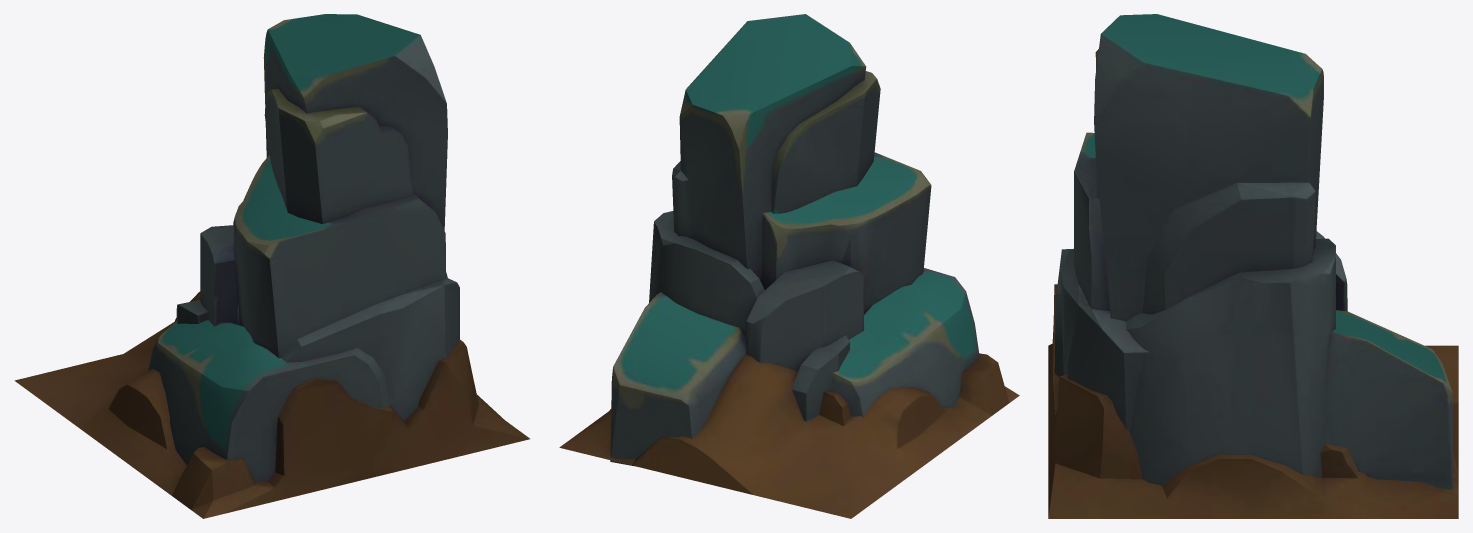
Rendered from OBJ_Mountain_02.obj.
The picture shows the model from 3 angles, left to right: view 1: azimuth 30°, elevation 25°; view 2: azimuth 150°, elevation 25°; view 3: azimuth 270°, elevation 25°; orthographic projection. The views are drawn at different scales.
Visible parts, largest first — view 1: OBJ_Mountain_02; view 2: OBJ_Mountain_02; view 3: OBJ_Mountain_02.
Boxes of the visible parts, x1,y1,x2,y2 form: OBJ_Mountain_02: (14, 14, 529, 518); OBJ_Mountain_02: (559, 14, 1019, 518); OBJ_Mountain_02: (1048, 14, 1458, 518).
Size of the model in its own units: 3.6 by 4.24 by 3.6.
1 material, 1 textured.
